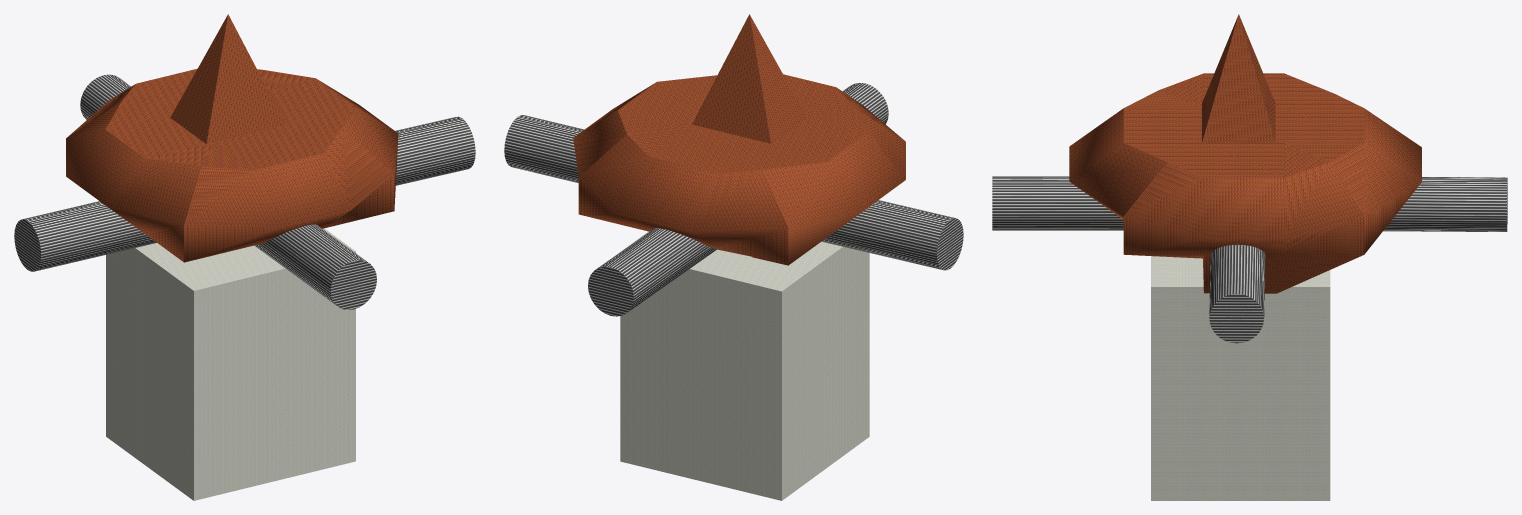
The model's file is FXtower.FBX.
The picture shows the model from 3 angles, left to right: view 1: azimuth 30°, elevation 25°; view 2: azimuth 150°, elevation 25°; view 3: azimuth 270°, elevation 25°; orthographic projection. The views are drawn at different scales.
Visible parts, largest first — view 1: body, top, Pyramid001, Cone001, Cone002, Cone003, Cone004; view 2: body, top, Pyramid001, Cone001, Cone004, Cone003, Cone002; view 3: top, body, Pyramid001, Cone002, Cone004, Cone003.
Boxes of the visible parts, x1=… form: body: x1=106, y1=228, x2=355, y2=500; top: x1=66, y1=68, x2=398, y2=262; Pyramid001: x1=170, y1=14, x2=285, y2=144; Cone001: x1=14, y1=201, x2=156, y2=271; Cone002: x1=254, y1=224, x2=376, y2=309; Cone003: x1=395, y1=116, x2=475, y2=185; Cone004: x1=80, y1=74, x2=130, y2=119; body: x1=620, y1=231, x2=869, y2=500; top: x1=573, y1=74, x2=905, y2=265; Pyramid001: x1=692, y1=14, x2=806, y2=143; Cone001: x1=822, y1=200, x2=963, y2=270; Cone004: x1=588, y1=228, x2=717, y2=316; Cone003: x1=504, y1=115, x2=584, y2=182; Cone002: x1=843, y1=83, x2=888, y2=124; top: x1=1069, y1=73, x2=1421, y2=293; body: x1=1151, y1=256, x2=1330, y2=500; Pyramid001: x1=1202, y1=14, x2=1275, y2=142; Cone002: x1=992, y1=176, x2=1123, y2=230; Cone004: x1=1383, y1=177, x2=1507, y2=231; Cone003: x1=1209, y1=244, x2=1265, y2=343.
Bounding box in the file's own units: 166 × 160 × 168.
3 materials, 3 textured.
